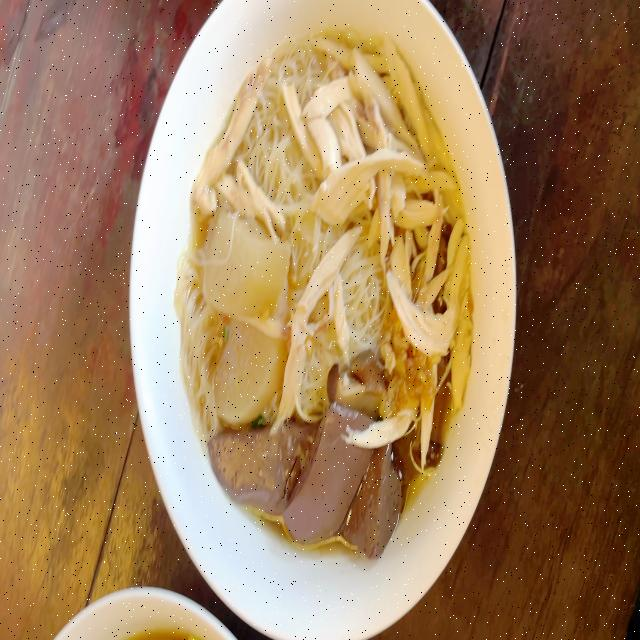boiled_chicken_blood_jelly: (208, 422, 308, 520), (290, 408, 361, 544), (356, 430, 398, 565)
chicken_shredded: (308, 50, 479, 472), (182, 75, 275, 211), (294, 231, 349, 401), (223, 165, 280, 227), (331, 276, 359, 373), (354, 414, 423, 444)
daikon_radish: (209, 223, 292, 332), (207, 326, 289, 424)
noodle: (208, 71, 454, 497)
